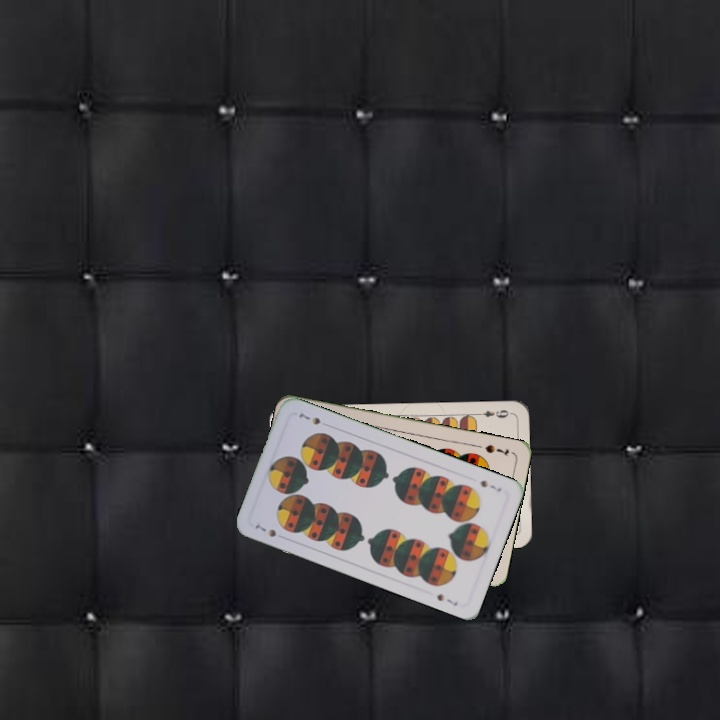E9: (472, 406, 513, 420)
S7: (481, 440, 511, 459), (251, 520, 279, 540), (477, 476, 504, 494)
